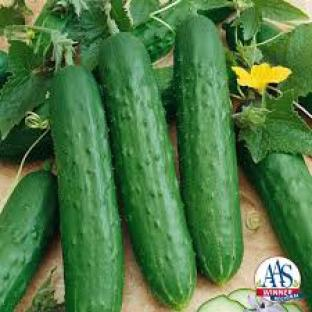Cucumber: (100, 34, 196, 309), (175, 16, 242, 284), (50, 67, 123, 311), (239, 146, 311, 306), (0, 171, 58, 311), (0, 120, 44, 160), (154, 67, 177, 119), (199, 296, 245, 311), (199, 7, 234, 23), (228, 289, 256, 309), (222, 23, 237, 49), (0, 50, 8, 88), (300, 93, 311, 113), (283, 303, 302, 311)
